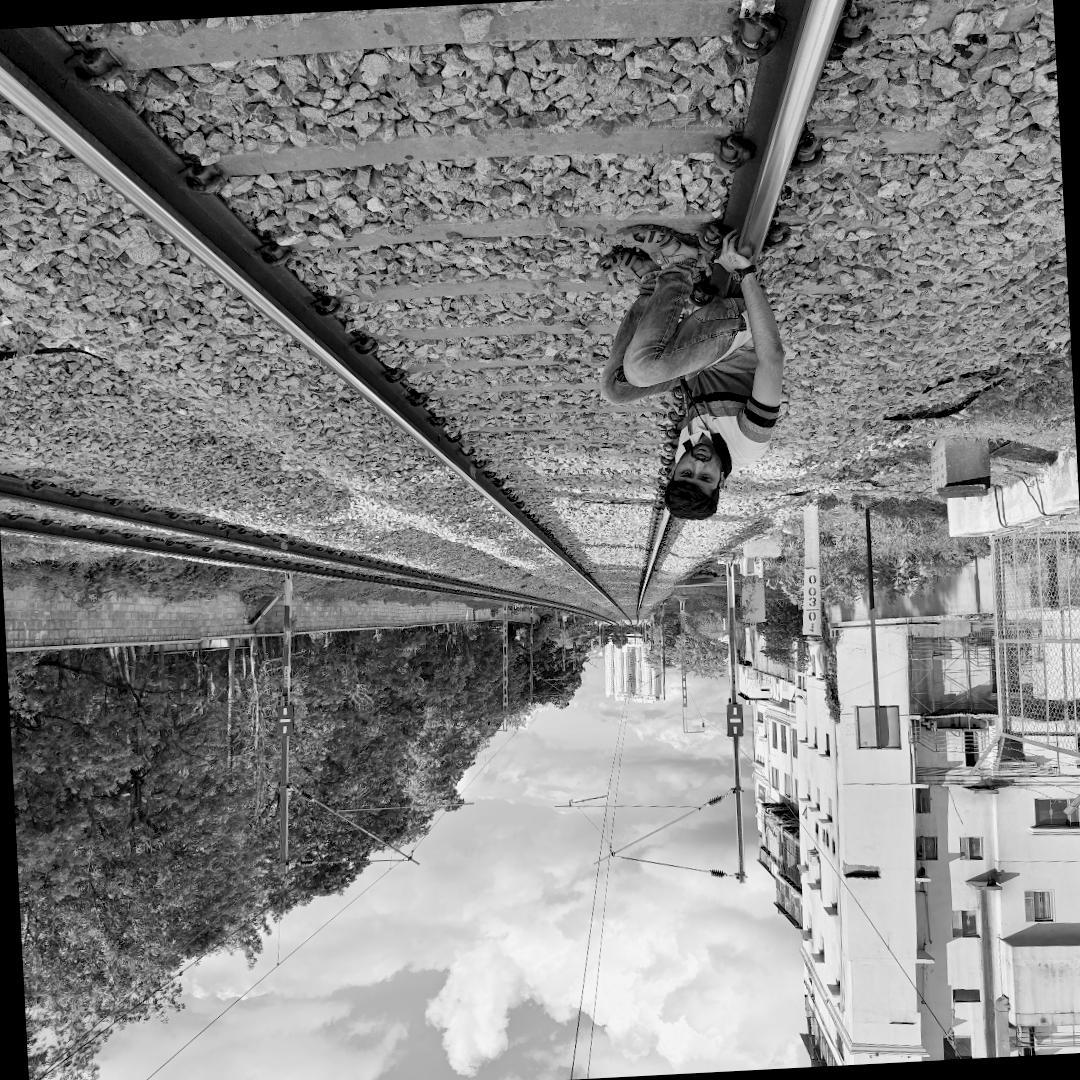sitting: (571, 201, 794, 544)
